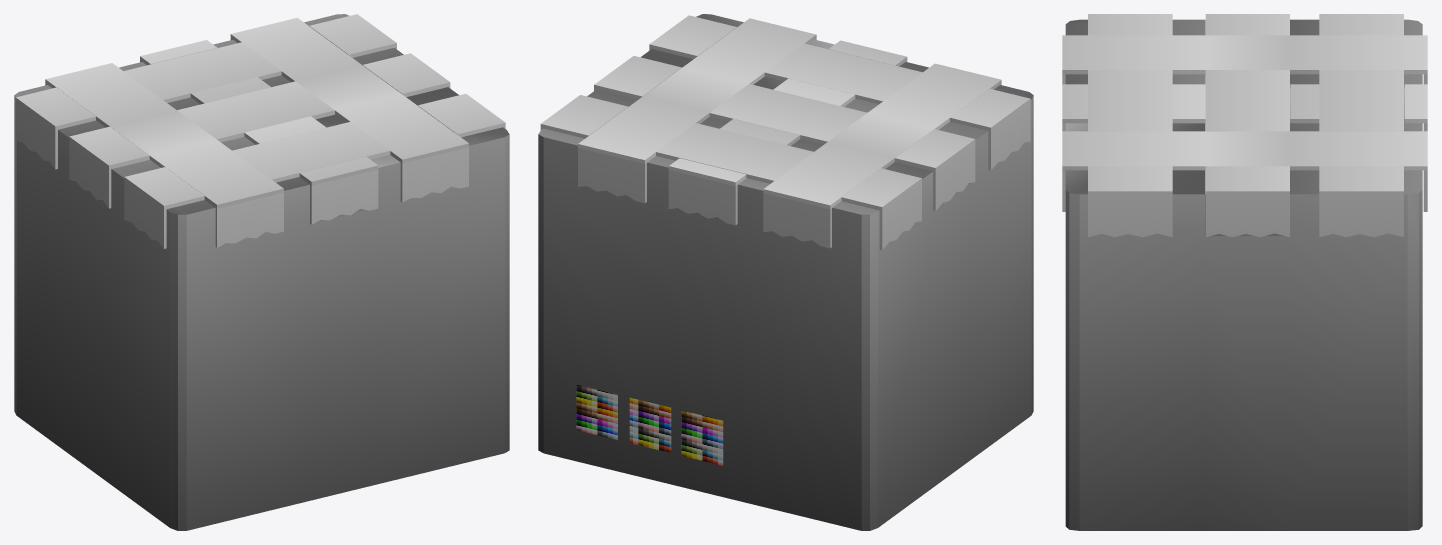
The model's file is Paquete3.fbx.
The picture shows the model from 3 angles, left to right: view 1: azimuth 30°, elevation 25°; view 2: azimuth 150°, elevation 25°; view 3: azimuth 270°, elevation 25°; orthographic projection. The views are drawn at different scales.
Parts seen in each view (by area): view 1: Paquete3, celo_paquete3; view 2: Paquete3, celo_paquete3, Etiquetas3; view 3: Paquete3, celo_paquete3.
Part boxes in pixels (x1=…): Paquete3: x1=14, y1=14, x2=509, y2=530; celo_paquete3: x1=15, y1=14, x2=505, y2=248; Paquete3: x1=538, y1=14, x2=1033, y2=530; celo_paquete3: x1=540, y1=15, x2=1030, y2=249; Etiquetas3: x1=576, y1=384, x2=723, y2=465; Paquete3: x1=1065, y1=19, x2=1422, y2=530; celo_paquete3: x1=1062, y1=14, x2=1427, y2=237.
Size of the model in its own units: 7.04 by 6.31 by 6.13.
